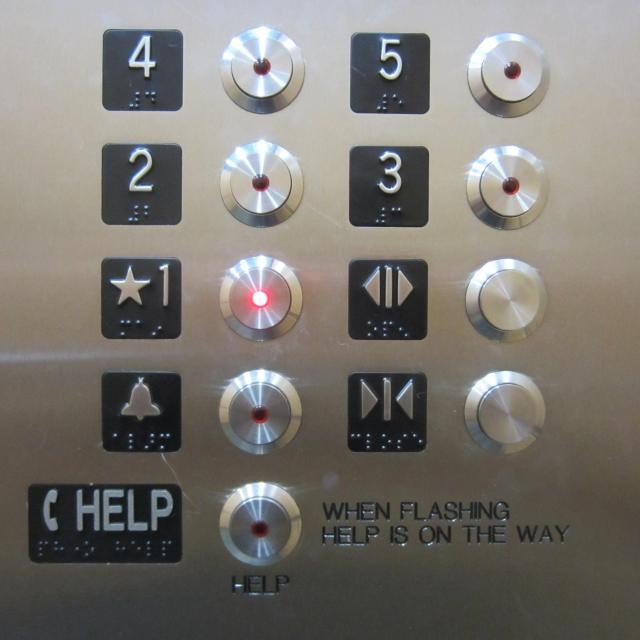2: (100, 142, 184, 224)
3: (347, 144, 431, 228)
4: (102, 30, 188, 112)
5: (347, 30, 433, 114)
alarm: (98, 370, 185, 458)
call: (25, 480, 186, 564)
close: (346, 370, 429, 453)
empty: (214, 138, 306, 228), (218, 24, 306, 117), (218, 252, 303, 344), (217, 367, 303, 456), (463, 367, 548, 455), (466, 32, 550, 121), (463, 144, 550, 229), (216, 481, 303, 566), (466, 257, 550, 343)
open: (346, 257, 431, 343)
s1: (98, 254, 186, 342)
